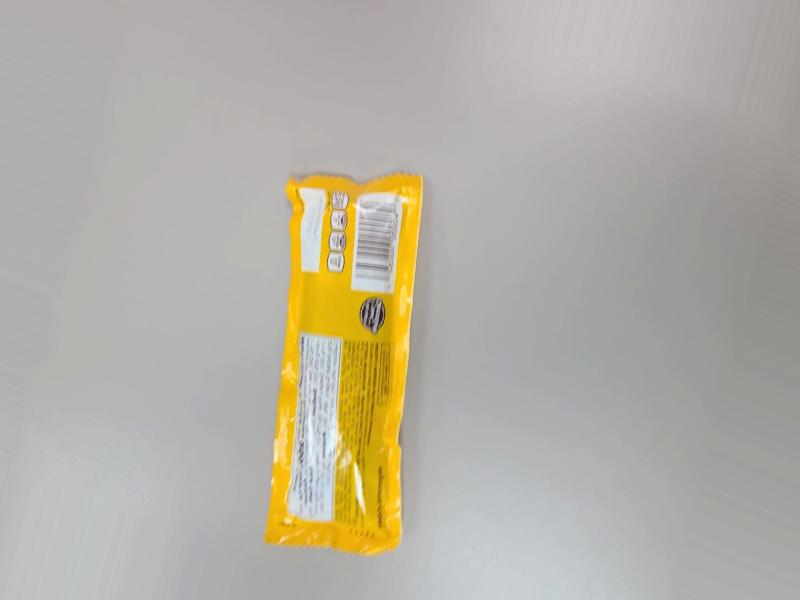m&m: (252, 143, 417, 563)
